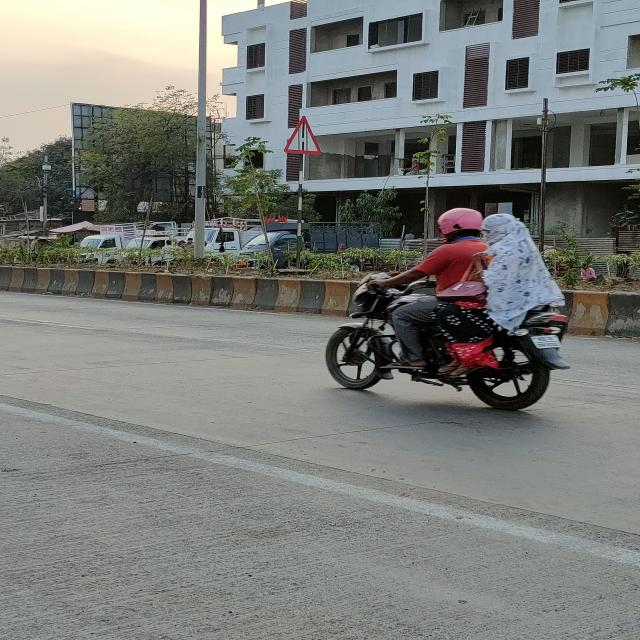ferry: (281, 114, 328, 154)
